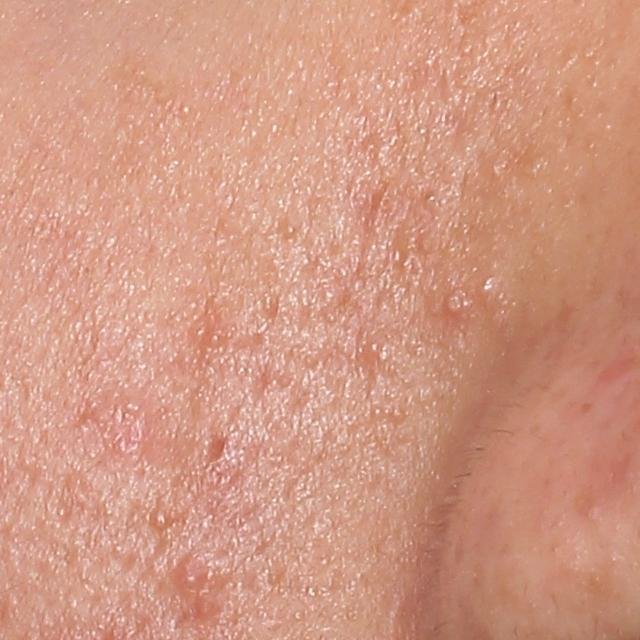atrophic_scar: (204, 431, 227, 464)
comedo: (281, 217, 300, 238)
papule: (172, 556, 210, 593)
